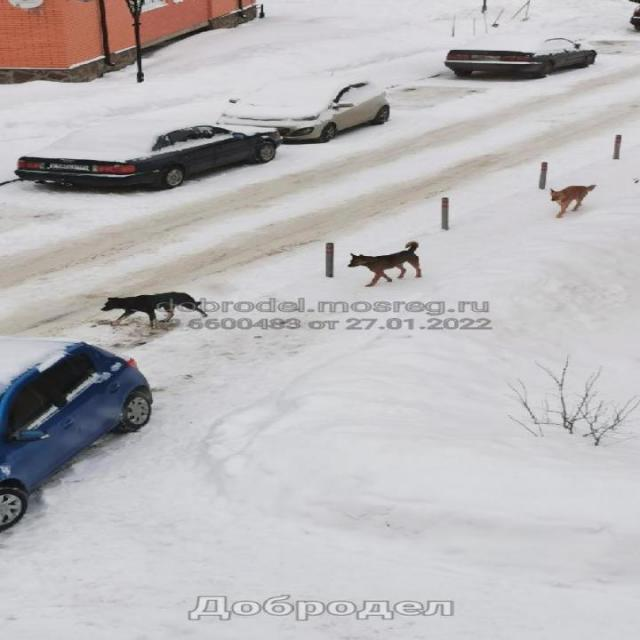dog: (98, 292, 215, 338), (347, 240, 423, 292), (546, 180, 596, 220)
